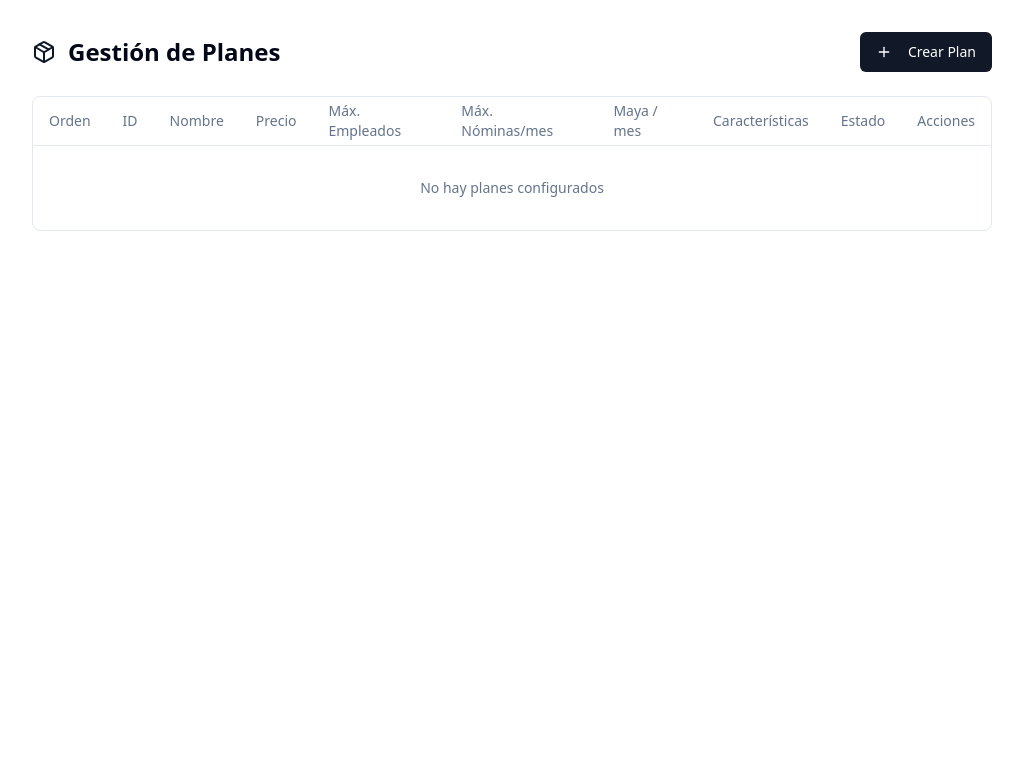
Test case: AdminPlansPage › opens create dialog with empty form
The image size is (1024, 768).
Expected: the text "No hay planes configurados" is shown, [33,145,991,230]
Click the button at x=926, y=52, box [860,32,992,72]
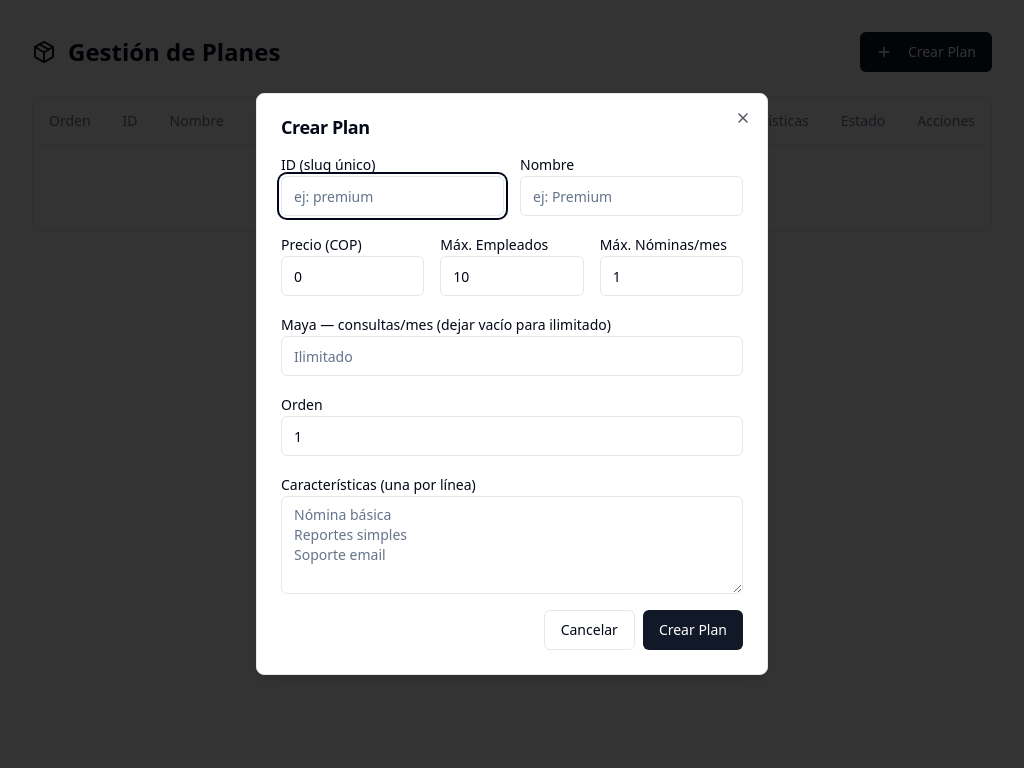
Result: the dialog is shown at [256,93,768,675]
Result: the text "ID (slug único)" is shown at [281,155,375,174]
